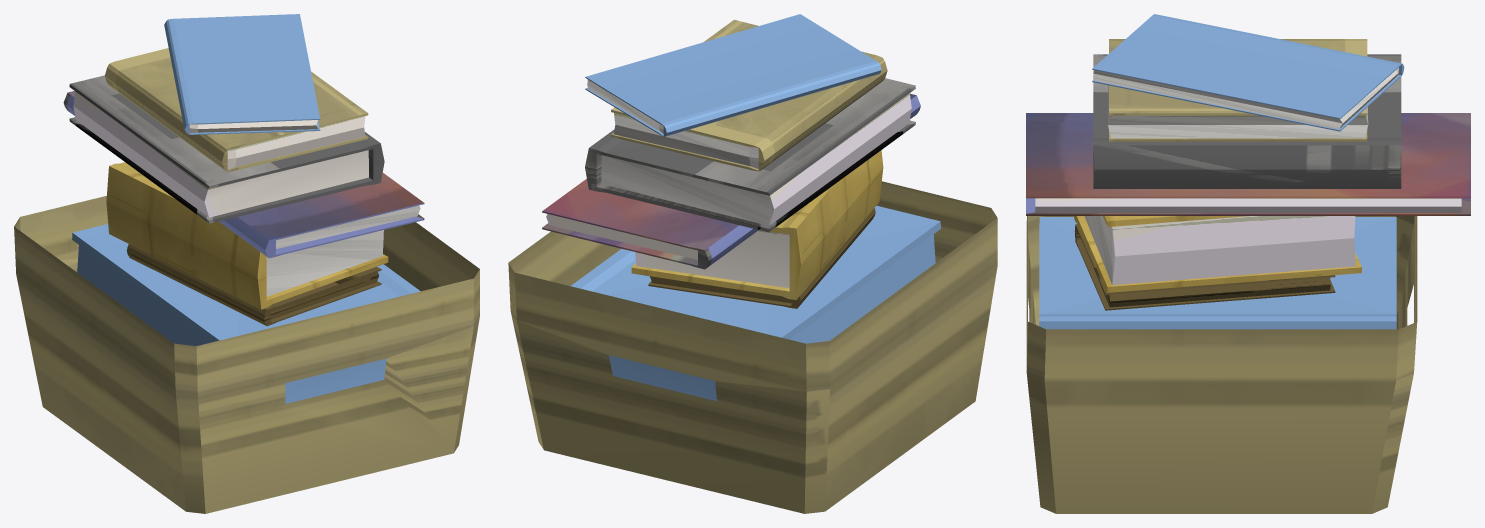
The model's file is BookBox.glb.
3 renders of one model, left to right at view 1: azimuth 30°, elevation 25°; view 2: azimuth 150°, elevation 25°; view 3: azimuth 270°, elevation 25°, orthographic. The views are drawn at different scales.
Visible parts, largest first — view 1: Cube.128; view 2: Cube.128; view 3: Cube.128.
Part boxes in pixels (bbox=[...]): Cube.128: bbox=[14, 14, 479, 513]; Cube.128: bbox=[508, 14, 997, 513]; Cube.128: bbox=[1026, 14, 1470, 513].
Size of the model in its own units: 0.4669 by 0.5023 by 0.5335.
7 materials, 6 textured.
